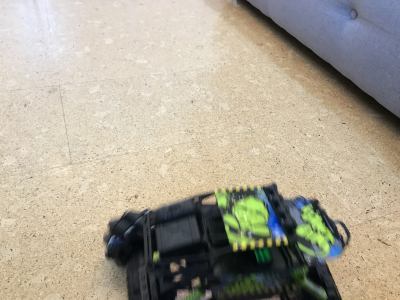remote control car: (98, 177, 353, 300)
